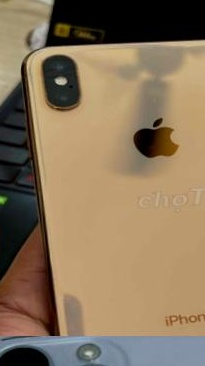scratch: (29, 81, 64, 111)
